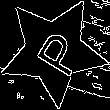P_NW: (23, 22, 84, 80)
